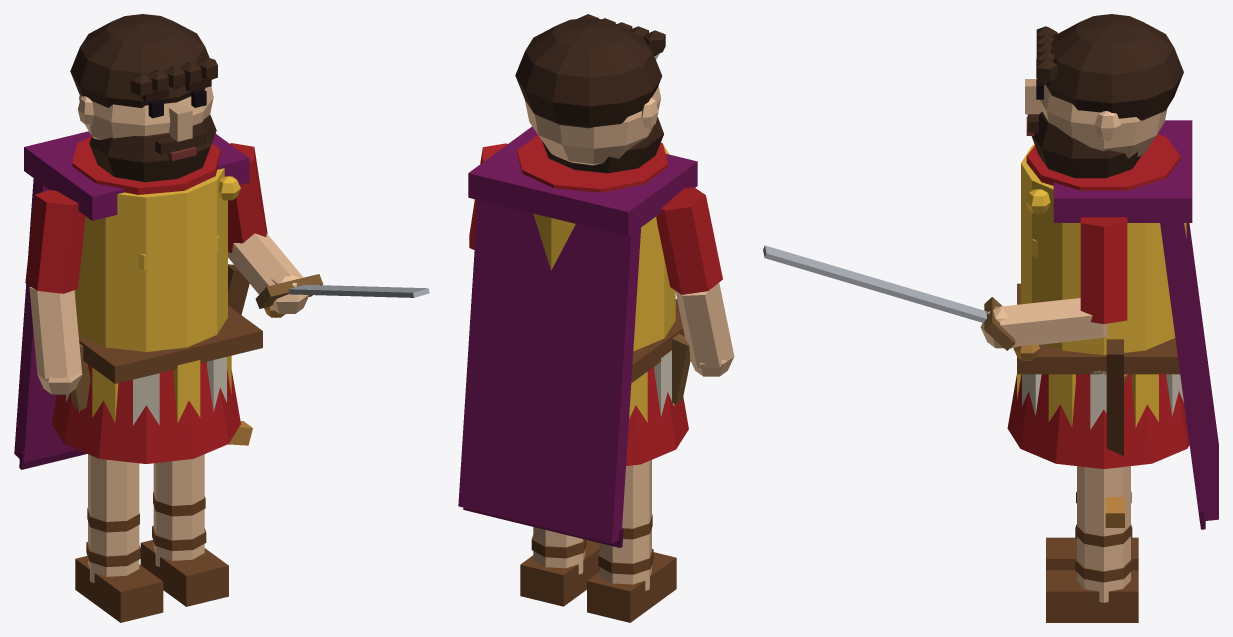
File: antoniusz.glb
3 renders of one model, left to right at view 1: azimuth 30°, elevation 25°; view 2: azimuth 150°, elevation 25°; view 3: azimuth 270°, elevation 25°, orthographic.
Visible parts, largest first — view 1: cialo, glowa, noga_l, reka_l, noga_p, reka_p, peleryna; view 2: peleryna, cialo, glowa, reka_l, noga_l, noga_p, reka_p; view 3: cialo, glowa, reka_p, noga_p, peleryna, noga_l.
Part boxes in pixels (x1=…): cialo: x1=24, y1=131, x2=262, y2=463; glowa: x1=70, y1=14, x2=217, y2=182; noga_l: x1=75, y1=454, x2=163, y2=622; reka_l: x1=25, y1=190, x2=85, y2=394; noga_p: x1=140, y1=454, x2=228, y2=606; reka_p: x1=228, y1=143, x2=429, y2=317; peleryna: x1=14, y1=178, x2=86, y2=469; peleryna: x1=458, y1=200, x2=640, y2=547; cialo: x1=468, y1=126, x2=697, y2=465; glowa: x1=515, y1=14, x2=665, y2=173; reka_l: x1=656, y1=187, x2=734, y2=376; noga_l: x1=587, y1=460, x2=676, y2=622; noga_p: x1=520, y1=527, x2=599, y2=606; reka_p: x1=469, y1=53, x2=659, y2=249; cialo: x1=1007, y1=120, x2=1192, y2=527; glowa: x1=1025, y1=14, x2=1183, y2=178; reka_p: x1=763, y1=217, x2=1127, y2=360; noga_p: x1=1046, y1=466, x2=1138, y2=622; peleryna: x1=1160, y1=223, x2=1218, y2=529; noga_l: x1=1046, y1=492, x2=1138, y2=570.
Bounding box in the file's own units: 0.7352 × 1.64 × 1.18.
